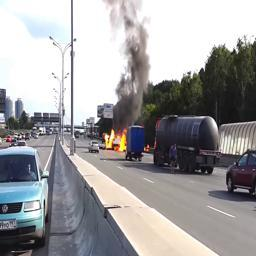fire: (103, 128, 127, 151)
